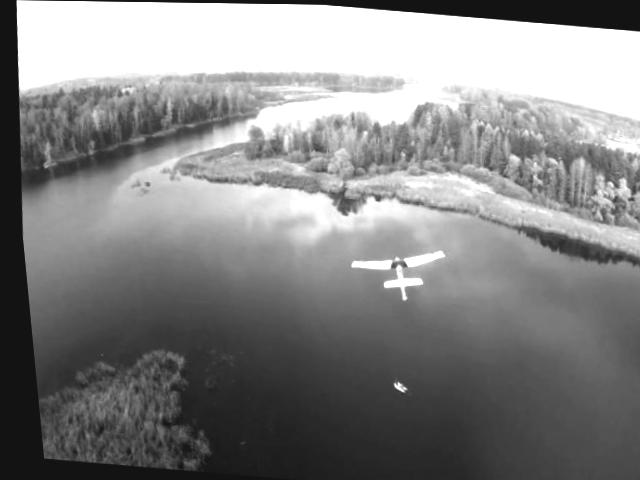hedef: (334, 234, 448, 315)
